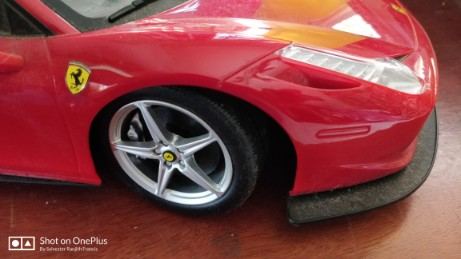unaligned_wheel: (91, 82, 292, 219)
